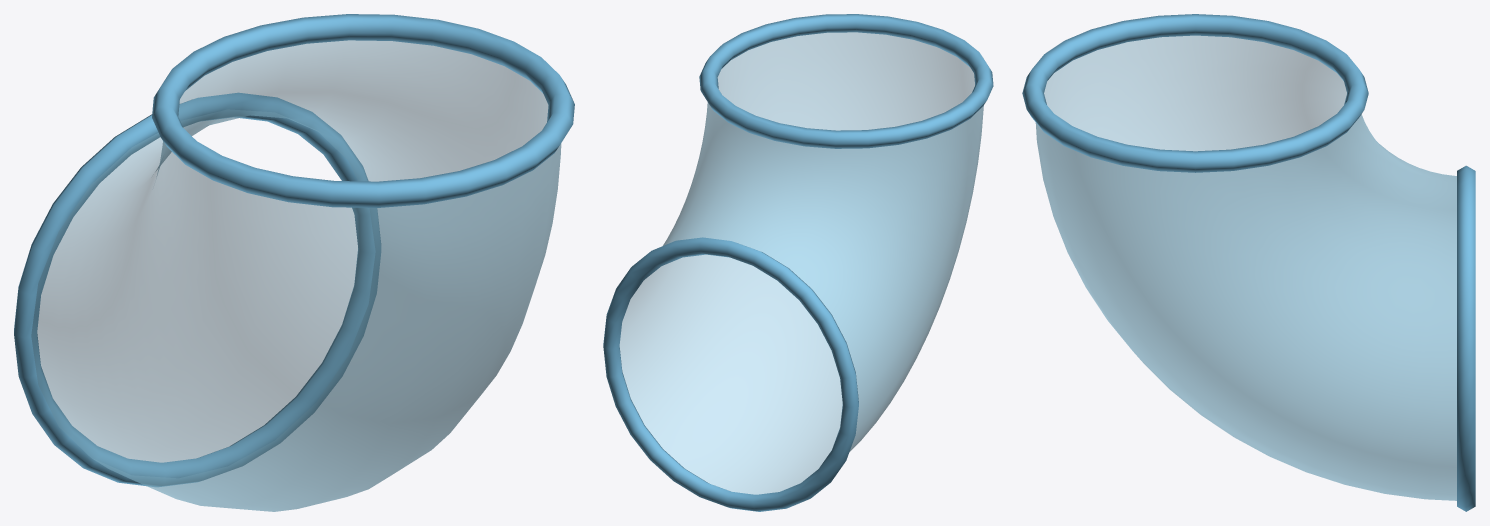
File: tube_bend_up.glb
3 views of the same model, side by side, from view 1: azimuth 30°, elevation 25°; view 2: azimuth 150°, elevation 25°; view 3: azimuth 270°, elevation 25° (orthographic). The views are drawn at different scales.
Parts seen in each view (by area): view 1: tube_body, tube_rims; view 2: tube_body, tube_rims; view 3: tube_body, tube_rims.
Part boxes in pixels (x1=…): tube_body: x1=31, y1=40, x2=561, y2=511; tube_rims: x1=14, y1=14, x2=574, y2=486; tube_body: x1=619, y1=32, x2=983, y2=494; tube_rims: x1=603, y1=14, x2=993, y2=511; tube_body: x1=1035, y1=35, x2=1456, y2=500; tube_rims: x1=1022, y1=14, x2=1475, y2=511.
Bounding box in the file's own units: 0.64 × 0.8373 × 0.8373.
